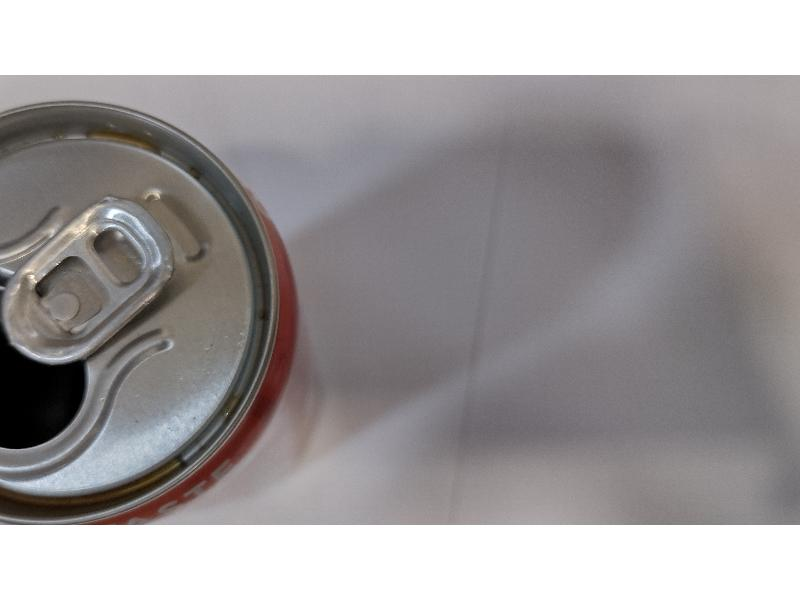can: (0, 94, 305, 528)
